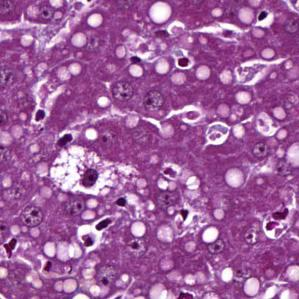ballooning: (47, 143, 138, 201)
